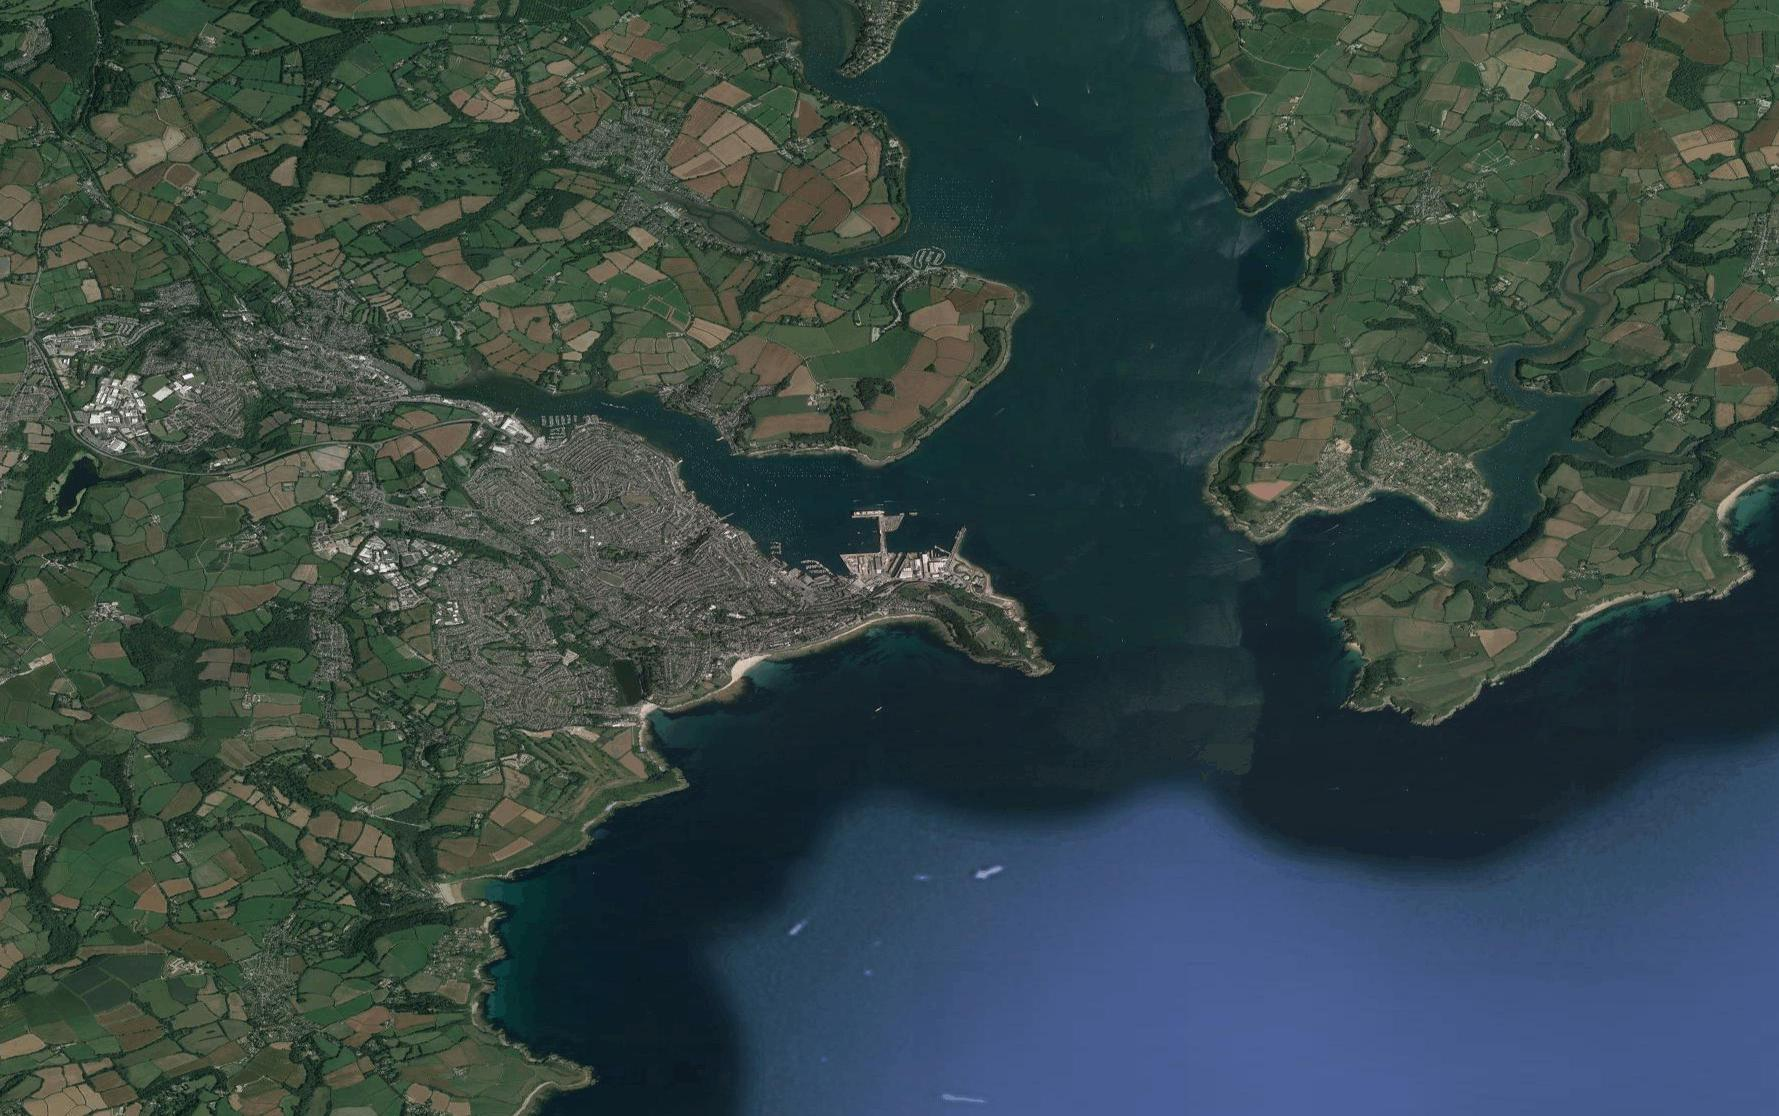harbor: (796, 503, 987, 597)
industrial: (84, 377, 158, 456)
